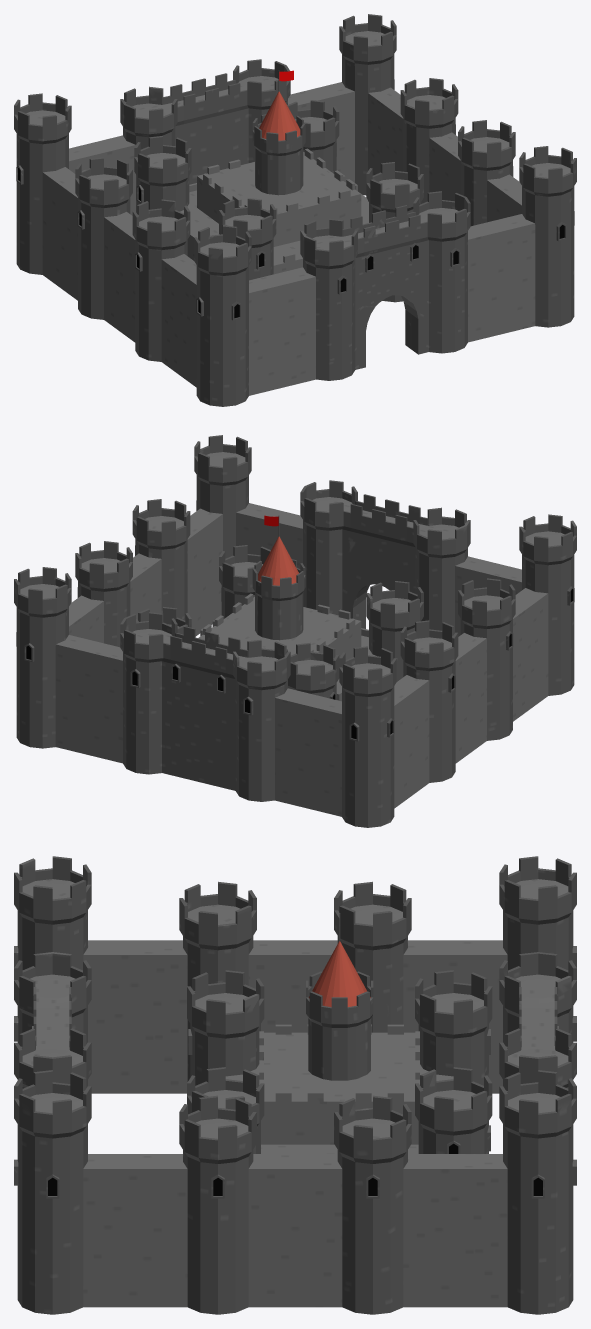
Rendered from castle.fbx.
3 renders of one model, top to bottom at view 1: azimuth 30°, elevation 25°; view 2: azimuth 150°, elevation 25°; view 3: azimuth 270°, elevation 25°, orthographic. The views are drawn at different scales.
Parts seen in each view (by area): view 1: Cylinder; view 2: Cylinder; view 3: Cylinder.
Part boxes in pixels (x1=…): Cylinder: x1=14, y1=14, x2=576, y2=406; Cylinder: x1=14, y1=435, x2=576, y2=827; Cylinder: x1=14, y1=856, x2=576, y2=1314.
Size of the model in its own units: 6820 by 3610 by 6580.
1 material, 1 textured.
